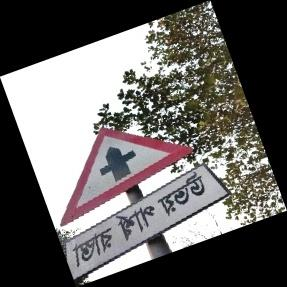Crossroad: (59, 126, 222, 280)
